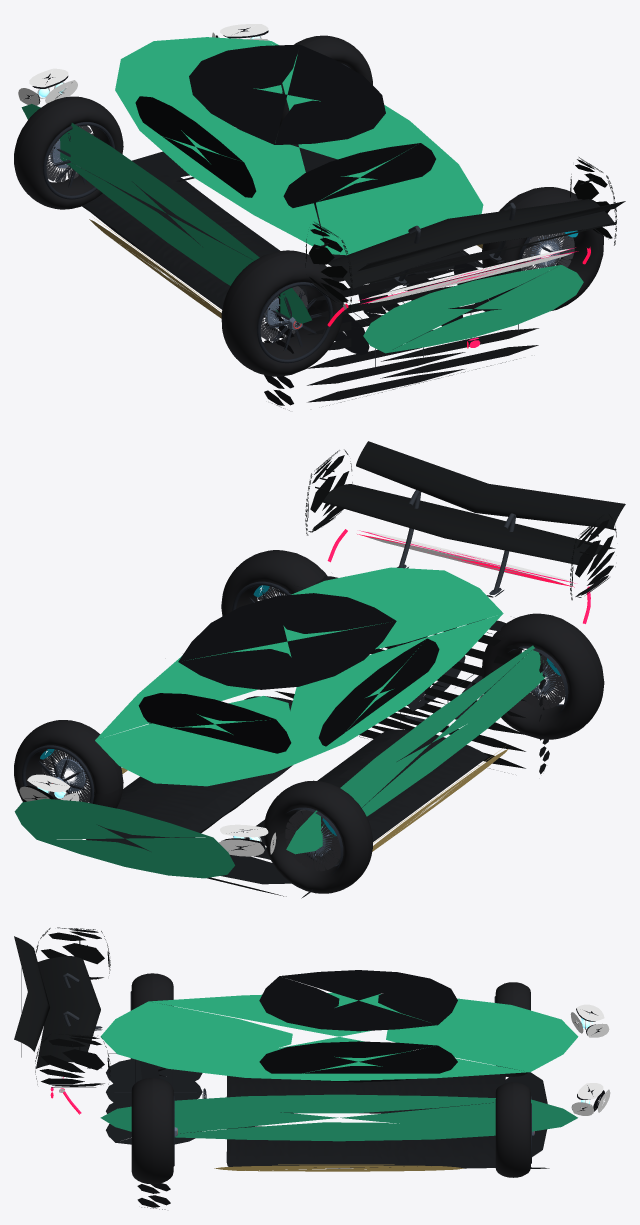
File: vehicle_formula_supremacy_aero_spec.glb
3 renders of one model, top to bottom at view 1: azimuth 30°, elevation 25°; view 2: azimuth 150°, elevation 25°; view 3: azimuth 270°, elevation 25°, orthographic. The views are drawn at different scales.
Visible parts, largest first — view 1: FORMULA_SUPREMACY_AERO_SPEC, ACTIVE_VENTURI_UNDERBODY_FLOOR, ACTIVE_GURNEY_FLAP_LIP, MICHELIN_CUP_2R_TRACK_TIRE.002, MICHELIN_CUP_2R_TRACK_TIRE, FRONT_MATRIX_HEADLIGHT_CLUSTER, MICHELIN_CUP_2R_TRACK_TIRE.003, AERODYNAMIC_ENDPLATE_ASSEMBLY, FORGED_MAGNESIUM_RIM.002, DIFFUSER_STRAKE_1, MICHELIN_CUP_2R_TRACK_TIRE.001, FORGED_MAGNESIUM_RIM (+5 smaller); view 2: FORMULA_SUPREMACY_AERO_SPEC, ACTIVE_VENTURI_UNDERBODY_FLOOR, ACTIVE_GURNEY_FLAP_LIP, MICHELIN_CUP_2R_TRACK_TIRE.002, MICHELIN_CUP_2R_TRACK_TIRE, MICHELIN_CUP_2R_TRACK_TIRE.001, FRONT_MATRIX_HEADLIGHT_CLUSTER, MICHELIN_CUP_2R_TRACK_TIRE.003, AERODYNAMIC_ENDPLATE_ASSEMBLY, FLOATING_CSIC_BRAKE_ROTOR, FLOATING_CSIC_BRAKE_ROTOR.001, SEALING_SKIRT_LEFT (+6 smaller); view 3: FORMULA_SUPREMACY_AERO_SPEC, ACTIVE_VENTURI_UNDERBODY_FLOOR, ACTIVE_GURNEY_FLAP_LIP, MICHELIN_CUP_2R_TRACK_TIRE.003, MICHELIN_CUP_2R_TRACK_TIRE.001, AERODYNAMIC_ENDPLATE_ASSEMBLY, DIFFUSER_STRAKE_1, FRONT_MATRIX_HEADLIGHT_CLUSTER, SEALING_SKIRT_LEFT, MICHELIN_CUP_2R_TRACK_TIRE.002, MICHELIN_CUP_2R_TRACK_TIRE.
Part boxes in pixels (<box>): FORMULA_SUPREMACY_AERO_SPEC: <box>21,37,583,353</box>; ACTIVE_VENTURI_UNDERBODY_FLOOR: <box>82,134,539,410</box>; ACTIVE_GURNEY_FLAP_LIP: <box>327,199,625,288</box>; MICHELIN_CUP_2R_TRACK_TIRE.002: <box>221,250,343,376</box>; MICHELIN_CUP_2R_TRACK_TIRE: <box>14,96,123,209</box>; FRONT_MATRIX_HEADLIGHT_CLUSTER: <box>18,24,571,309</box>; MICHELIN_CUP_2R_TRACK_TIRE.003: <box>482,187,603,310</box>; AERODYNAMIC_ENDPLATE_ASSEMBLY: <box>305,157,617,310</box>; FORGED_MAGNESIUM_RIM.002: <box>257,282,332,363</box>; DIFFUSER_STRAKE_1: <box>334,251,518,369</box>; MICHELIN_CUP_2R_TRACK_TIRE.001: <box>277,35,372,144</box>; FORGED_MAGNESIUM_RIM: <box>43,122,114,199</box>; FORMULA_SUPREMACY_AERO_SPEC: <box>14,567,548,878</box>; ACTIVE_VENTURI_UNDERBODY_FLOOR: <box>86,576,549,898</box>; ACTIVE_GURNEY_FLAP_LIP: <box>323,441,625,564</box>; MICHELIN_CUP_2R_TRACK_TIRE.002: <box>482,613,604,739</box>; MICHELIN_CUP_2R_TRACK_TIRE: <box>263,780,372,893</box>; MICHELIN_CUP_2R_TRACK_TIRE.001: <box>14,720,123,825</box>; FRONT_MATRIX_HEADLIGHT_CLUSTER: <box>19,531,592,856</box>; MICHELIN_CUP_2R_TRACK_TIRE.003: <box>221,550,327,616</box>; AERODYNAMIC_ENDPLATE_ASSEMBLY: <box>305,449,616,600</box>; FLOATING_CSIC_BRAKE_ROTOR: <box>285,809,340,871</box>; FLOATING_CSIC_BRAKE_ROTOR.001: <box>41,749,90,802</box>; SEALING_SKIRT_LEFT: <box>121,746,508,851</box>; FORMULA_SUPREMACY_AERO_SPEC: <box>100,970,578,1141</box>; ACTIVE_VENTURI_UNDERBODY_FLOOR: <box>135,1060,549,1209</box>; ACTIVE_GURNEY_FLAP_LIP: <box>14,936,100,1068</box>; MICHELIN_CUP_2R_TRACK_TIRE.003: <box>131,1078,173,1184</box>; MICHELIN_CUP_2R_TRACK_TIRE.001: <box>495,1082,530,1177</box>; AERODYNAMIC_ENDPLATE_ASSEMBLY: <box>35,927,110,1087</box>; DIFFUSER_STRAKE_1: <box>106,1053,206,1144</box>; FRONT_MATRIX_HEADLIGHT_CLUSTER: <box>59,1004,610,1115</box>; SEALING_SKIRT_LEFT: <box>214,1164,464,1171</box>; MICHELIN_CUP_2R_TRACK_TIRE.002: <box>131,973,173,1076</box>; MICHELIN_CUP_2R_TRACK_TIRE: <box>495,982,530,1077</box>.
Bounding box in the file's own units: 2.75 × 1.5 × 4.75.
